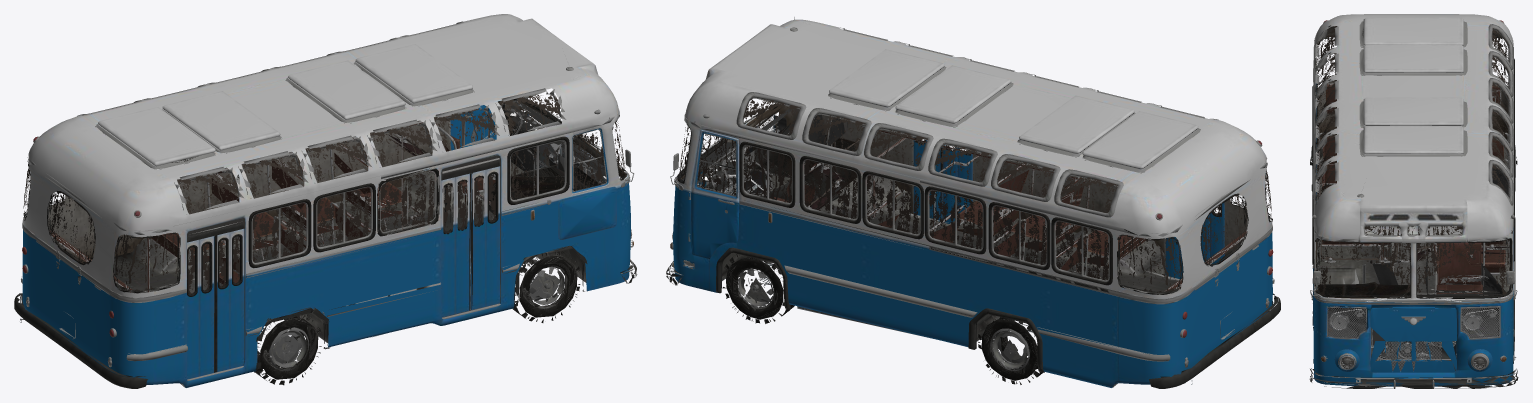
File: paz652.glb
The picture shows the model from 3 angles, left to right: view 1: azimuth 30°, elevation 25°; view 2: azimuth 150°, elevation 25°; view 3: azimuth 270°, elevation 25°; orthographic projection. The views are drawn at different scales.
Visible parts, largest first — view 1: PAZ_BodyOut, PAZ_BodyDetals, PAZ_MainGlass, PAZ_BodyIN, PAZ_Floor, PAZ_Seats, PAZ_Tire, PAZ_MainInside, PAZ_Wheel, PAZ_Wall; view 2: PAZ_BodyOut, PAZ_BodyDetals, PAZ_MainGlass, PAZ_Floor, PAZ_Seats, PAZ_BodyIN, PAZ_Tire, PAZ_MainInside, PAZ_Wheel, PAZ_Wall; view 3: PAZ_BodyOut, PAZ_BodyDetals, PAZ_MainGlass, PAZ_Luke, PAZ_Floor, PAZ_Lattice, PAZ_Seats, PAZ_DriverSeat, PAZ_Wall, PAZ_MainInside, PAZ_HLGlass_Engine, PAZ_BodyIN (+3 smaller).
Part boxes in pixels (left/top/right/bottom): PAZ_BodyOut: left=22, top=14, right=630, bottom=387; PAZ_BodyDetals: left=14, top=21, right=637, bottom=388; PAZ_MainGlass: left=23, top=92, right=625, bottom=293; PAZ_BodyIN: left=25, top=100, right=626, bottom=364; PAZ_Floor: left=26, top=162, right=586, bottom=387; PAZ_Seats: left=49, top=107, right=490, bottom=292; PAZ_Tire: left=205, top=248, right=580, bottom=385; PAZ_MainInside: left=489, top=101, right=620, bottom=213; PAZ_Wheel: left=269, top=259, right=564, bottom=370; PAZ_Wall: left=388, top=100, right=534, bottom=222; PAZ_BodyOut: left=673, top=19, right=1272, bottom=387; PAZ_BodyDetals: left=666, top=17, right=1280, bottom=388; PAZ_MainGlass: left=678, top=96, right=1271, bottom=292; PAZ_Floor: left=722, top=175, right=1268, bottom=387; PAZ_Seats: left=860, top=125, right=1246, bottom=291; PAZ_BodyIN: left=681, top=105, right=1247, bottom=275; PAZ_Tire: left=722, top=253, right=1092, bottom=384; PAZ_MainInside: left=682, top=107, right=857, bottom=209; PAZ_Wheel: left=737, top=268, right=1029, bottom=370; PAZ_Wall: left=805, top=114, right=882, bottom=216; PAZ_BodyOut: left=1313, top=14, right=1513, bottom=386; PAZ_BodyDetals: left=1309, top=20, right=1518, bottom=388; PAZ_MainGlass: left=1315, top=26, right=1511, bottom=296; PAZ_Luke: left=1370, top=307, right=1456, bottom=372; PAZ_Floor: left=1317, top=139, right=1509, bottom=295; PAZ_Lattice: left=1327, top=307, right=1499, bottom=370; PAZ_Seats: left=1317, top=83, right=1509, bottom=277; PAZ_DriverSeat: left=1433, top=242, right=1485, bottom=294; PAZ_Wall: left=1319, top=166, right=1509, bottom=294; PAZ_MainInside: left=1317, top=282, right=1501, bottom=297; PAZ_HLGlass_Engine: left=1329, top=310, right=1497, bottom=361; PAZ_BodyIN: left=1315, top=26, right=1508, bottom=298.
Size of the model in its own units: 7 by 3.08 by 2.78.
22 materials, 19 textured.
